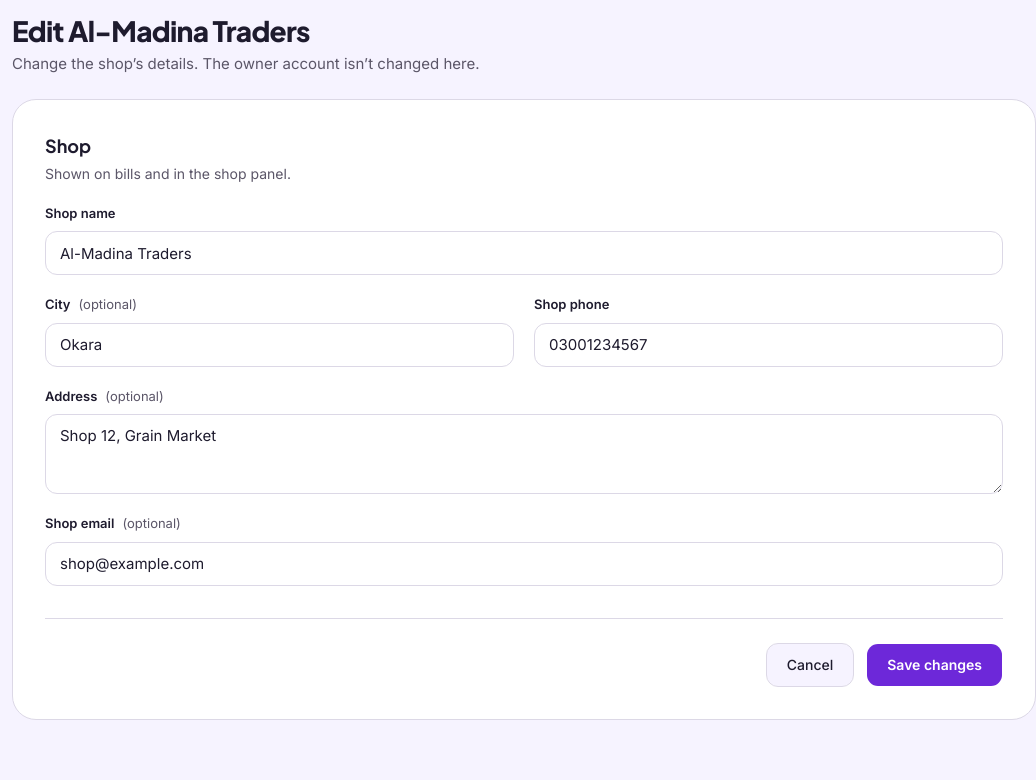
EditShop › shows the server's field error
The width and height of the screenshot is (1036, 780).
Click the button "Save changes": (935, 665) [866,643,1003,687]
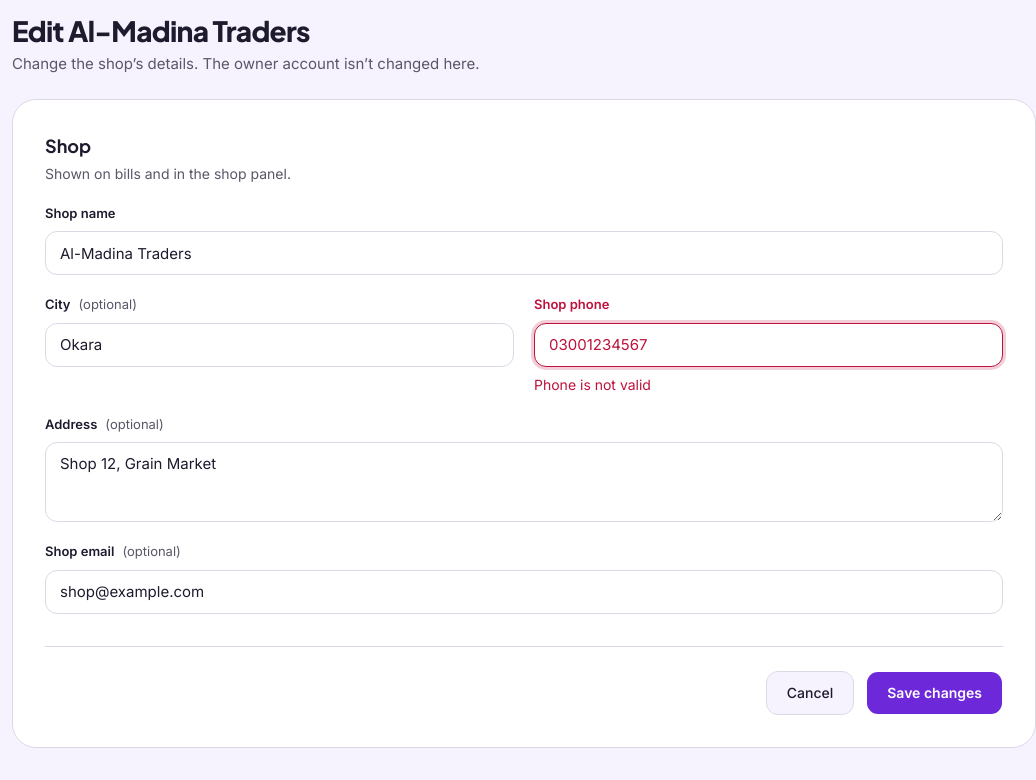
expect the text "Phone is not valid" is shown: met, box [534,376,651,393]
